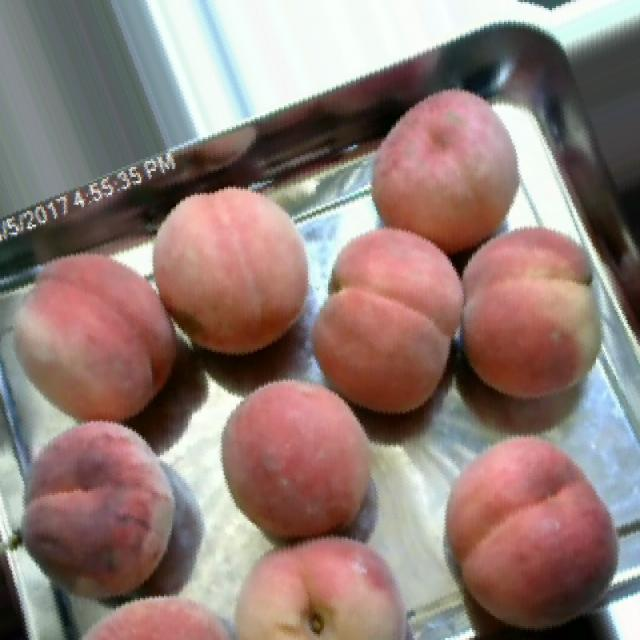Fruit: (414, 411, 640, 639), (1, 398, 207, 638), (0, 231, 207, 449), (345, 64, 544, 282), (196, 362, 405, 568), (131, 161, 329, 376), (293, 205, 467, 439), (459, 203, 636, 419), (200, 505, 439, 640)
